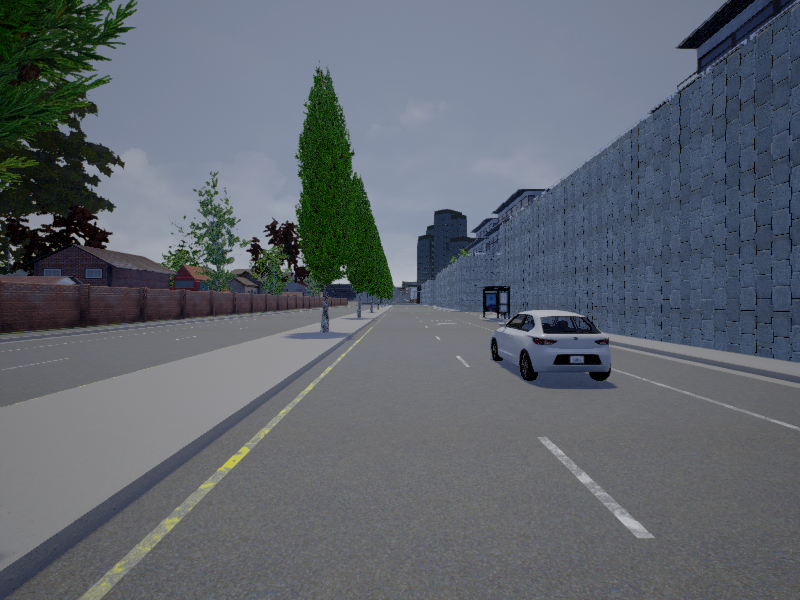Benign: (489, 312, 610, 383)
